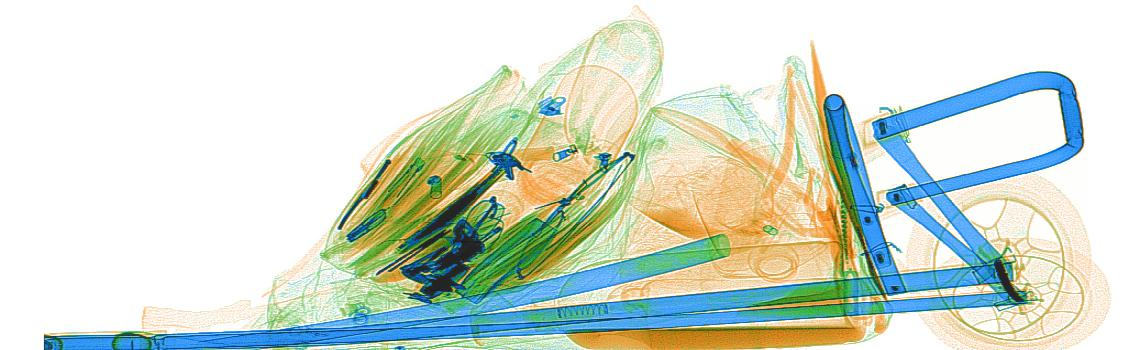plasticBottleWithaNozzle: (463, 238, 868, 345), (628, 115, 793, 263)
scissors: (345, 208, 388, 243)
